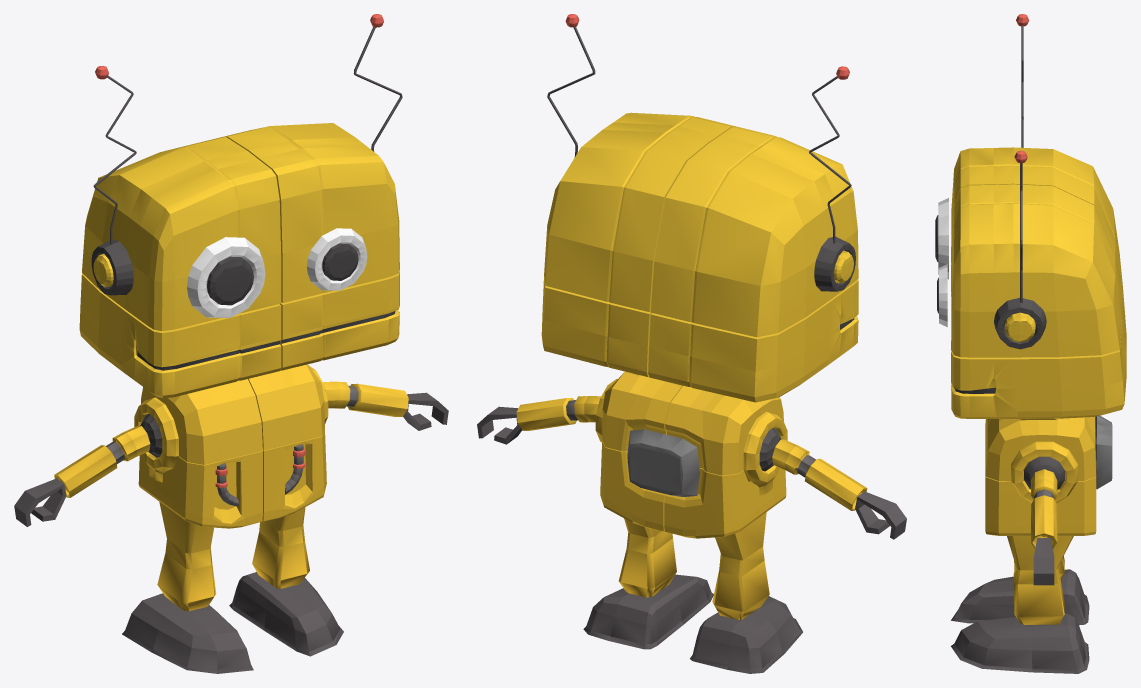
The model's file is Level_P_12.fbx.
3 views of the same model, side by side, from view 1: azimuth 30°, elevation 25°; view 2: azimuth 150°, elevation 25°; view 3: azimuth 270°, elevation 25° (orthographic). The views are drawn at different scales.
Parts seen in each view (by area): view 1: polySurface111, polySurface108, polySurface110, polySurface112, Pipes, Foot_Right, polySurface119, Foot_Left, Eye_Right, polySurface117, Leg_Right, Arm_Left1 (+7 smaller); view 2: polySurface111, polySurface108, polySurface110, polySurface112, polySurface119, Foot_Left, Pipes, Foot_Right, Leg_Right, Arm_Left1, polySurface117, polySurface114 (+6 smaller); view 3: polySurface108, polySurface112, polySurface111, Foot_Left, polySurface117, Pipes.001, Leg_Left, Foot_Right, Hand_Left, Eye_Right2, polySurface121, polySurface114 (+3 smaller).
Part boxes in pixels (<box>): polySurface111: <box>82,137,281,331</box>; polySurface108: <box>206,123,399,302</box>; polySurface110: <box>79,273,281,398</box>; polySurface112: <box>280,271,399,370</box>; Pipes: <box>138,451,262,528</box>; Foot_Right: <box>122,593,253,673</box>; polySurface119: <box>141,379,262,464</box>; Foot_Left: <box>229,572,343,656</box>; Eye_Right: <box>187,237,265,317</box>; polySurface117: <box>248,364,324,450</box>; Leg_Right: <box>157,502,216,611</box>; Arm_Left1: <box>14,426,150,526</box>; polySurface111: <box>650,126,858,337</box>; polySurface108: <box>544,112,735,312</box>; polySurface110: <box>648,279,858,402</box>; polySurface112: <box>541,277,651,376</box>; polySurface119: <box>665,386,783,475</box>; Foot_Left: <box>583,574,713,649</box>; Pipes: <box>664,468,786,538</box>; Foot_Right: <box>690,596,802,673</box>; Leg_Right: <box>712,512,769,619</box>; Arm_Left1: <box>772,439,906,539</box>; polySurface117: <box>602,371,682,451</box>; polySurface114: <box>627,429,699,496</box>; polySurface108: <box>951,184,1121,357</box>; polySurface112: <box>951,307,1126,418</box>; polySurface111: <box>951,147,1121,301</box>; Foot_Left: <box>951,613,1089,673</box>; polySurface117: <box>985,417,1096,481</box>; Pipes.001: <box>985,476,1096,535</box>; Leg_Left: <box>1007,536,1073,624</box>; Foot_Right: <box>951,569,1089,625</box>; Hand_Left: <box>1031,469,1057,585</box>; Eye_Right2: <box>994,150,1046,349</box>; polySurface121: <box>1011,441,1077,503</box>; polySurface114: <box>1095,415,1112,489</box>.
Bounding box in the file's own units: 2.4 × 3.27 × 1.02.
